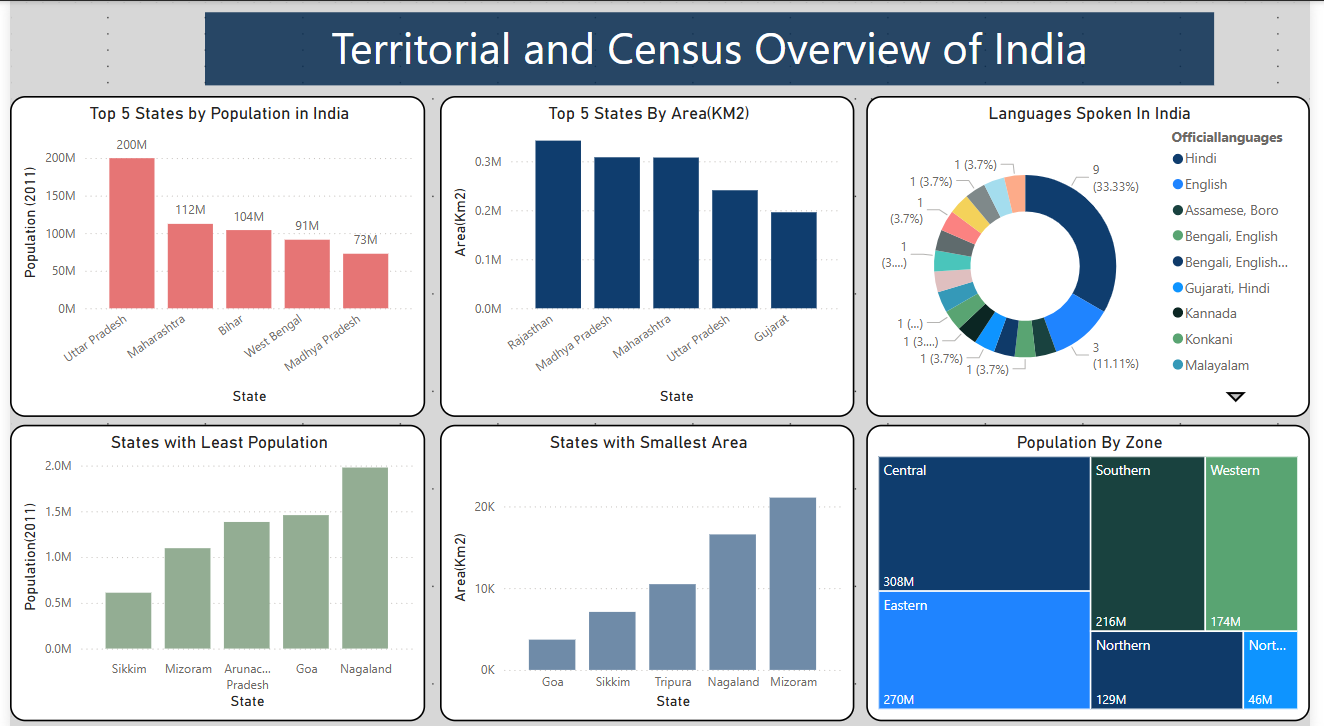

The dashboard page shown, as its layout file describes it:
{"tool":"powerbi","page":{"name":"Page 1","canvas":[1280,720],"ordinal":0},"visuals":[{"type":"columnChart","title":"Top 5 States by Population in India","fields":{"Y":["Sum(Table 5.Population(2011)[27][28])"],"Category":["Table 5.State"]},"box":[0,93.2,409,315.8],"z":0},{"type":"columnChart","title":"Top 5 States By Area(KM2)","fields":{"Y":["Sum(Table 5.Area(km2))"],"Category":["Table 5.State"]},"box":[423,93.2,407.7,315.8],"z":1000},{"type":"donutChart","title":"Languages Spoken In India","fields":{"Y":["CountNonNull(Table 5.Officiallanguages[29])"],"Category":["Table 5.Officiallanguages[29]"]},"box":[843.1,93.2,436.9,315.8],"z":2000},{"type":"columnChart","title":"States with Least Population","fields":{"Y":["Sum(Table 5.Population(2011)[27][28])"],"Category":["Table 5.State"]},"box":[0,417.4,409,292.2],"z":3000},{"type":"treemap","title":"Population By Zone","fields":{"Group":["Table 5.Zone"],"Values":["Sum(Table 5.Population(2011)[27][28])"]},"box":[843.1,417.4,436.9,292.2],"z":4000},{"type":"columnChart","title":"States with Smallest Area","fields":{"Category":["Table 5.State"],"Y":["Sum(Table 5.Area(km2))"]},"box":[423,417.4,407.7,292.2],"z":5000},{"type":"textbox","box":[192,11.1,993.4,72.3],"z":6000}]}

Visuals, with their boxes in screenshot pixels (x1, y1, x2, y2), scaled from the page's 1280x720 canvas onto the 1324x726 screenshot:
"Top 5 States by Population in India" columnChart: (0,94,423,412)
"Top 5 States By Area(KM2)" columnChart: (438,94,859,412)
"Languages Spoken In India" donutChart: (872,94,1323,412)
"States with Least Population" columnChart: (0,421,423,716)
"Population By Zone" treemap: (872,421,1323,716)
"States with Smallest Area" columnChart: (438,421,859,716)
textbox: (199,11,1226,84)
